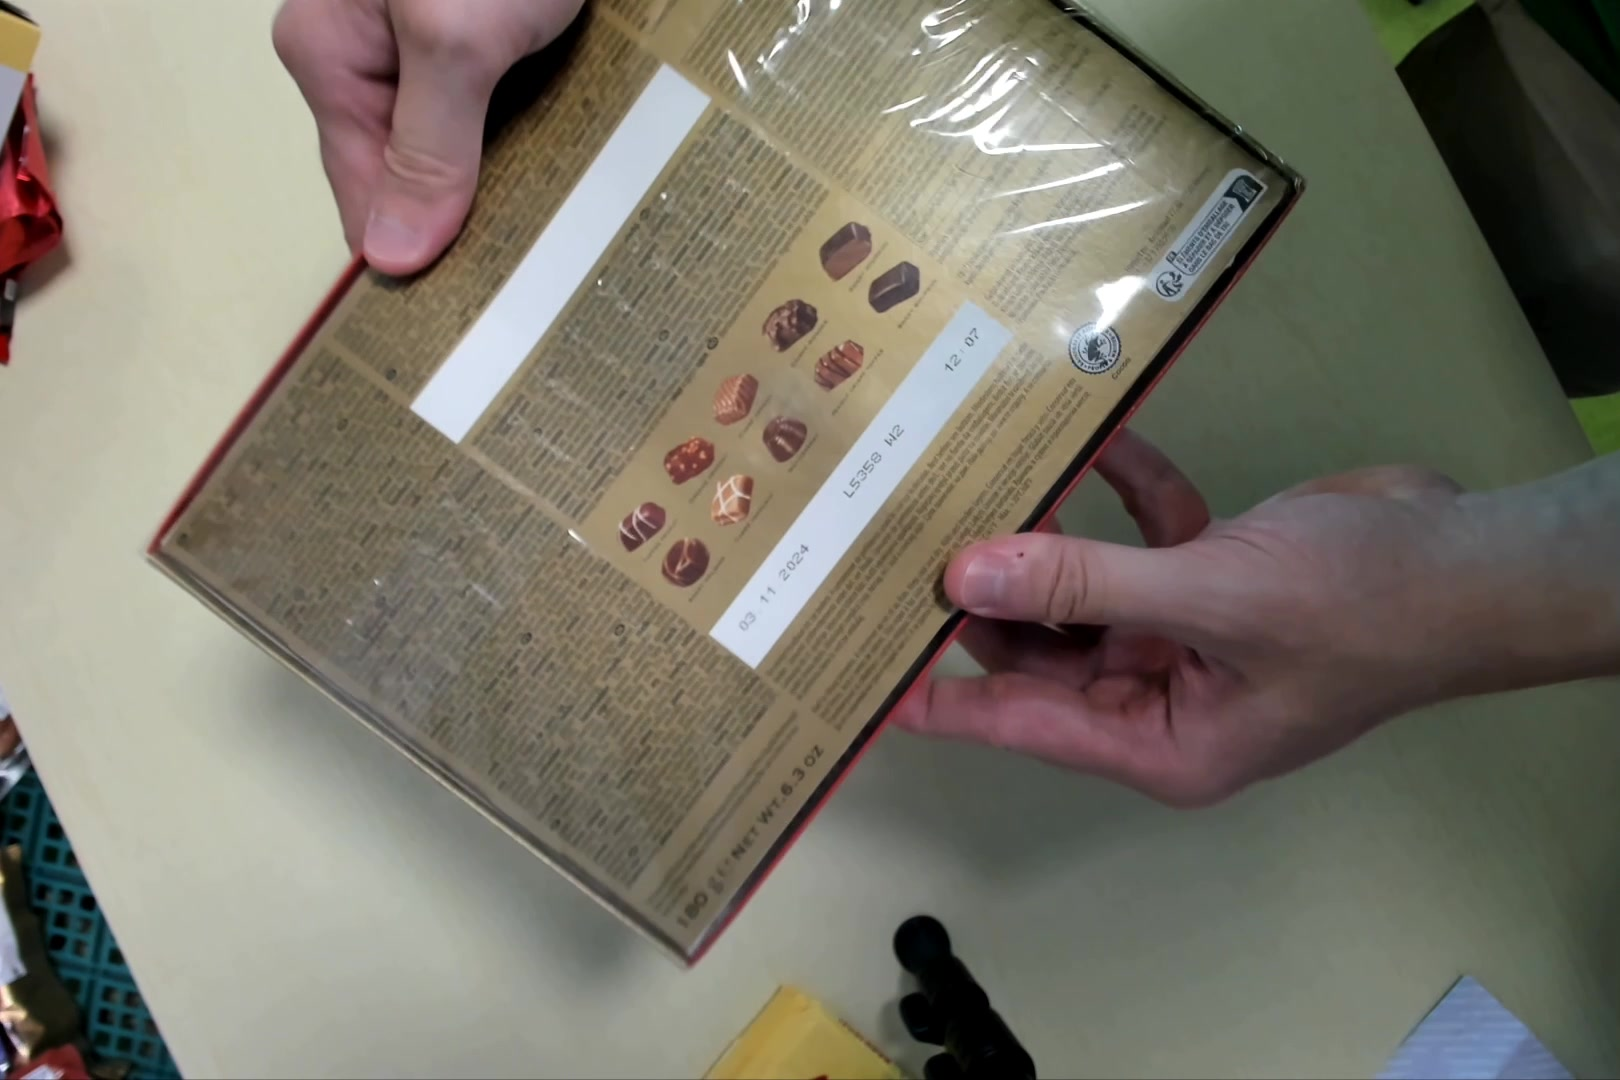SweetsChocolatesOthers_100-199g_NonHalal_NonHealthy: (118, 8, 1310, 970)
